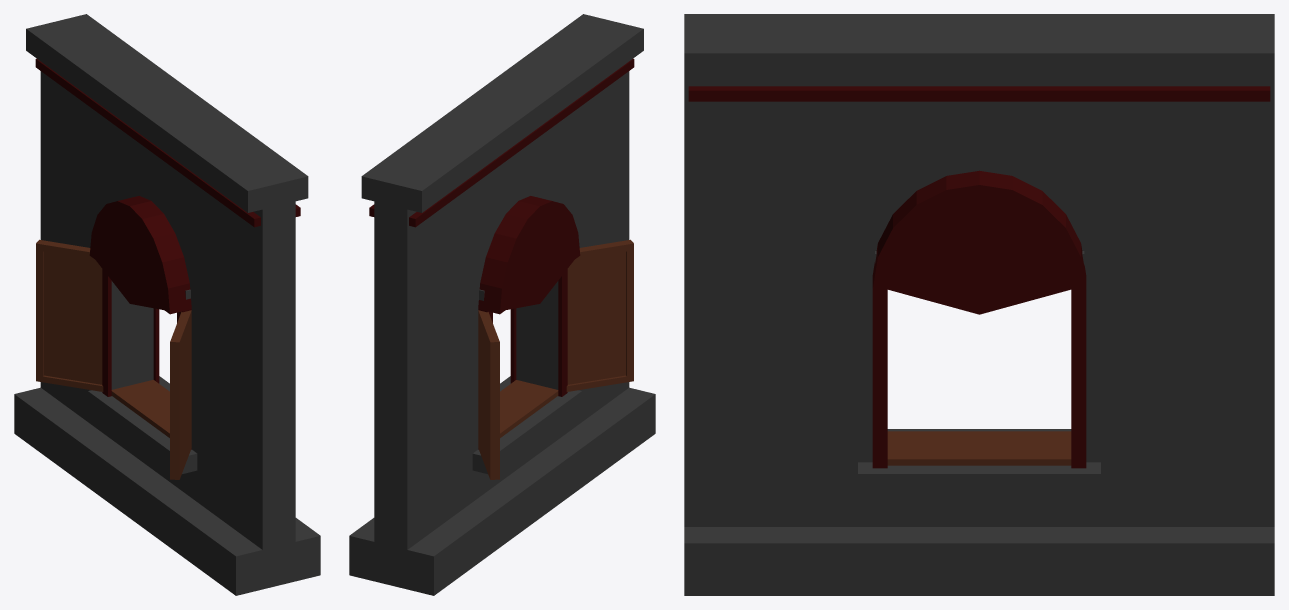
File: Housewall_openwindow_Kikl.fbx
The picture shows the model from 3 angles, left to right: view 1: azimuth 30°, elevation 25°; view 2: azimuth 150°, elevation 25°; view 3: azimuth 270°, elevation 25°; orthographic projection. The views are drawn at different scales.
Parts seen in each view (by area): view 1: Cube, Cube.017, Cube.002, Cube.003, Cube.001, Cube.004, Cube.013; view 2: Cube, Cube.017, Cube.002, Cube.014, Cube.001, Cube.004, Cube.013; view 3: Cube, Cube.002, Cube.004, Cube.001, Cube.013.
Part boxes in pixels (x1,y1,x2,y2): Cube: (14,14,320,595); Cube.017: (36,239,191,479); Cube.002: (89,196,191,449); Cube.003: (111,281,153,389); Cube.001: (88,376,197,473); Cube.004: (35,58,300,227); Cube.013: (111,379,169,437); Cube: (349,14,655,595); Cube.017: (478,239,633,479); Cube.002: (478,196,580,449); Cube.014: (516,281,558,389); Cube.001: (472,376,581,473); Cube.004: (369,58,634,227); Cube.013: (500,380,558,437); Cube: (684,14,1274,595); Cube.002: (872,170,1086,468); Cube.004: (688,86,1270,101); Cube.001: (858,429,1100,496); Cube.013: (887,431,1071,465).
Bounding box in the file's own units: 309 × 1112 × 1112.
